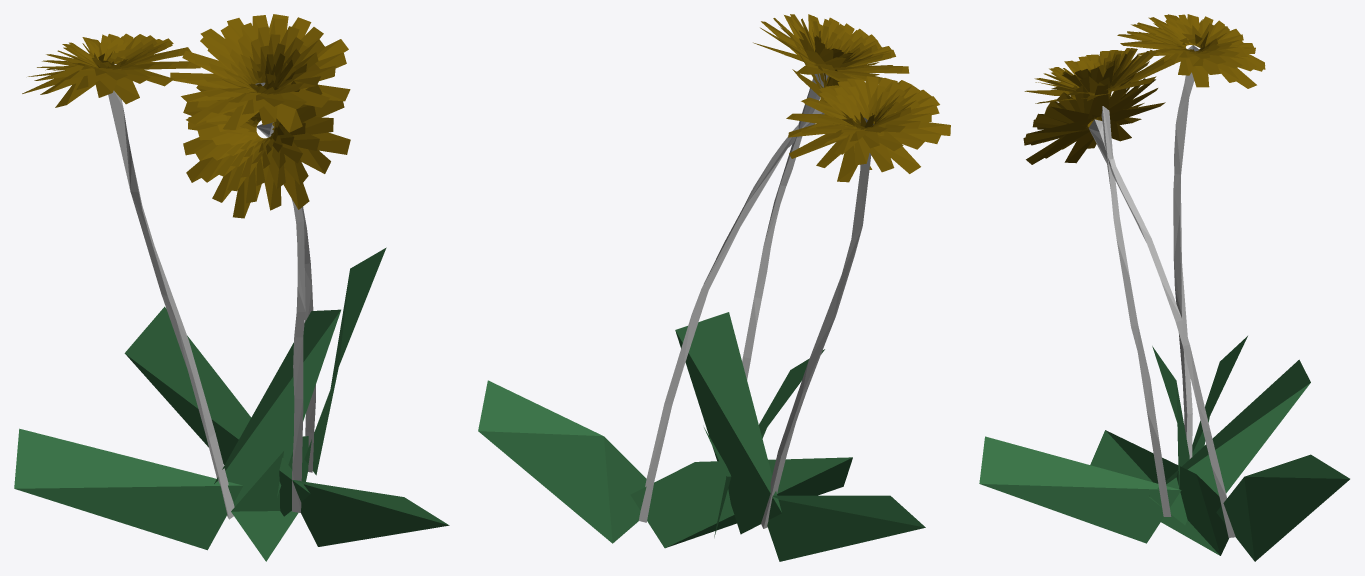
Rendered from DandelionYellow.fbx.
3 renders of one model, left to right at view 1: azimuth 30°, elevation 25°; view 2: azimuth 150°, elevation 25°; view 3: azimuth 270°, elevation 25°, orthographic. The views are drawn at different scales.
Visible parts, largest first — view 1: dandelionYellow1Leaf, dandelionYellow1Flower, dandelionYellow1Main; view 2: dandelionYellow1Leaf, dandelionYellow1Flower, dandelionYellow1Main; view 3: dandelionYellow1Leaf, dandelionYellow1Flower, dandelionYellow1Main.
Boxes of the visible parts, left/top/right/bottom form: dandelionYellow1Leaf: left=14, top=247, right=449, bottom=561; dandelionYellow1Flower: left=22, top=14, right=350, bottom=218; dandelionYellow1Main: left=108, top=82, right=315, bottom=519; dandelionYellow1Leaf: left=478, top=312, right=925, bottom=561; dandelionYellow1Flower: left=753, top=14, right=950, bottom=182; dandelionYellow1Main: left=638, top=73, right=873, bottom=528; dandelionYellow1Leaf: left=979, top=336, right=1349, bottom=561; dandelionYellow1Flower: left=1023, top=14, right=1265, bottom=164; dandelionYellow1Main: left=1088, top=45, right=1235, bottom=537.
Bounding box in the file's own units: 1.01 × 1.24 × 0.9063.
